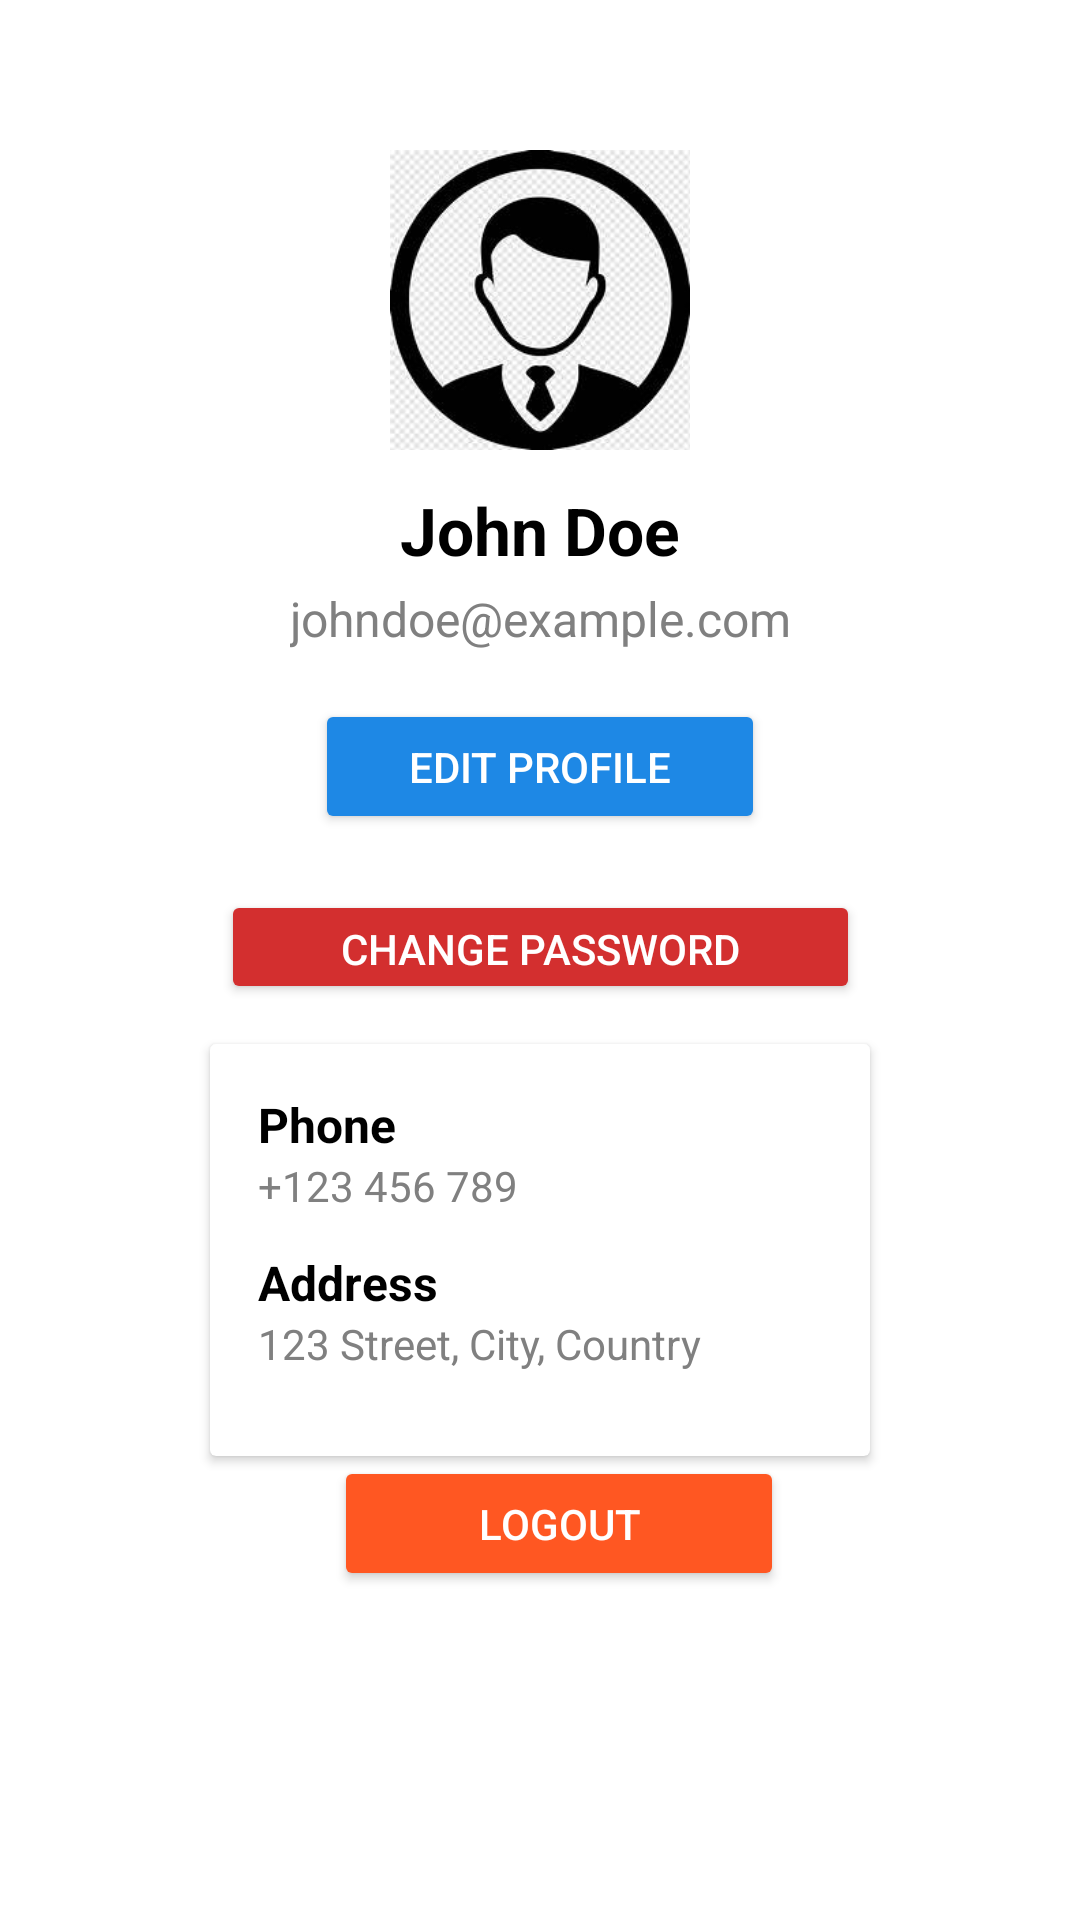

Icon click points for this 1080*1920 phone screenshot, format (x,y):
profile: (540,300)
